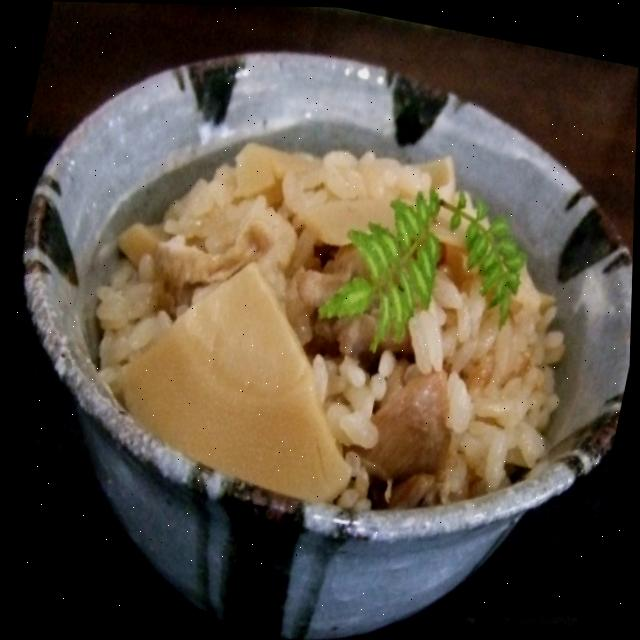米饭主食: (45, 89, 595, 533)
